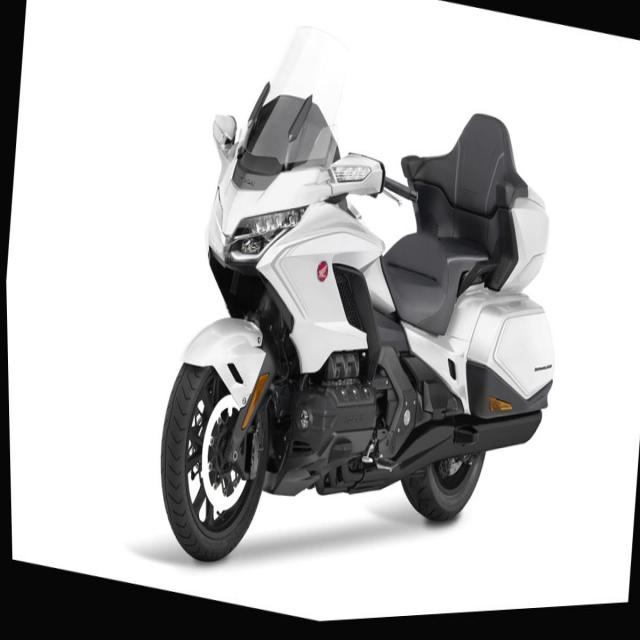Gold Wing: (138, 0, 586, 632)
